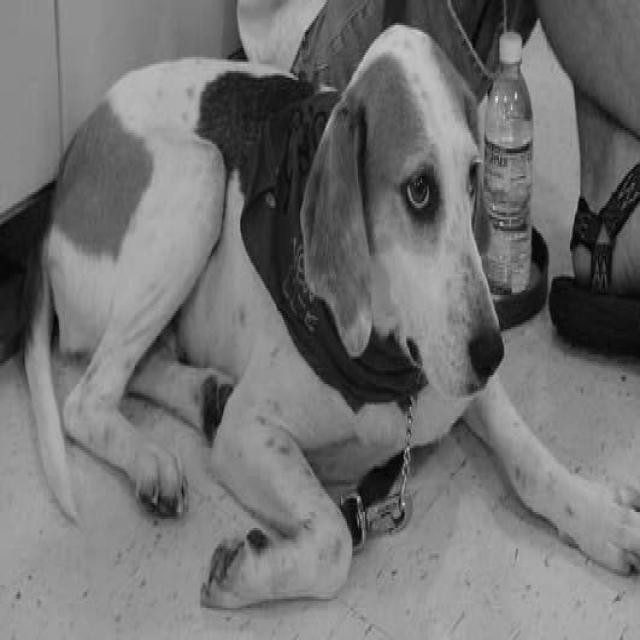laying down: (18, 18, 640, 621)
